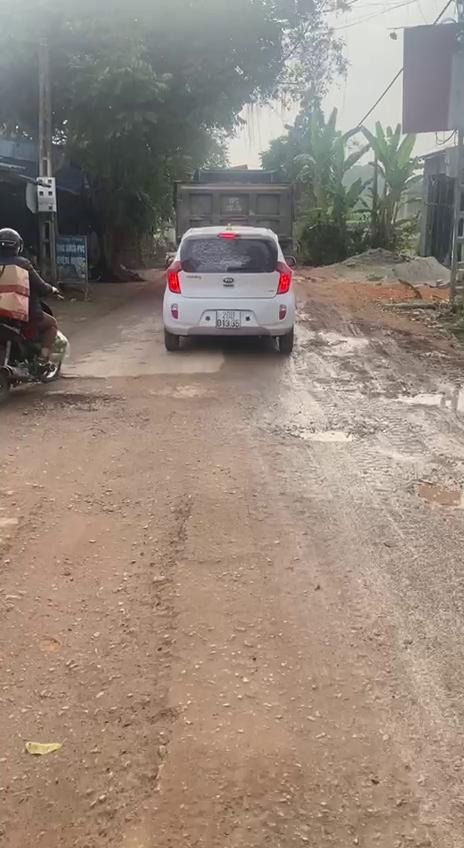pothole: (0, 482, 196, 848), (0, 386, 128, 427), (283, 422, 364, 448)
